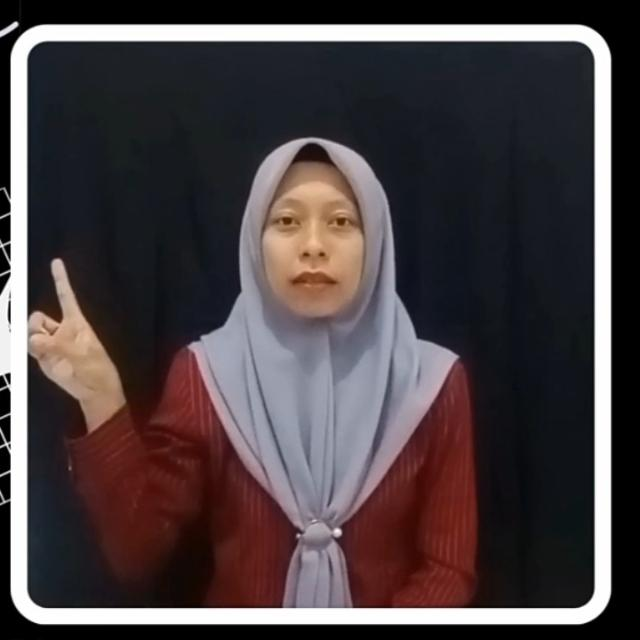D: (29, 257, 119, 397)
